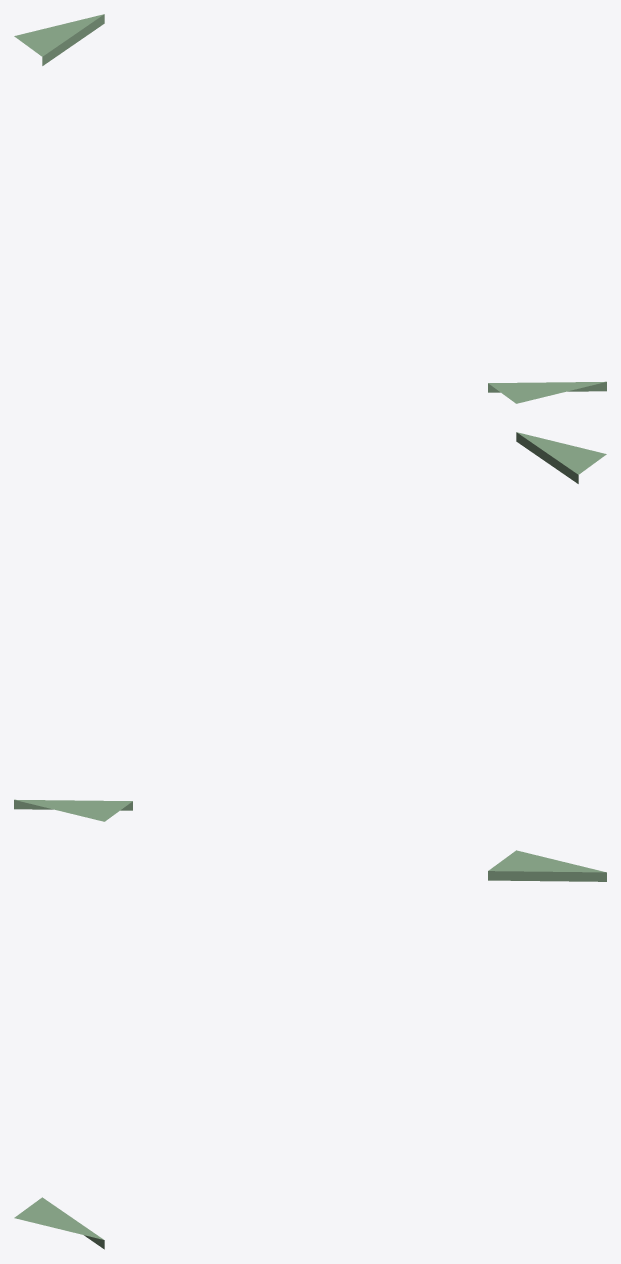
The model's file is AFT_PEAK_TK.glb.
3 views of the same model, one above another, from view 1: azimuth 30°, elevation 25°; view 2: azimuth 150°, elevation 25°; view 3: azimuth 330°, elevation 25° (orthographic).
Visible parts, largest first — view 1: PL_STR1BracketxAPTS_001001-12.5_NVA_1993, PL_STR1BracketxAPTP_001001-12.5_NVA_1993, ST_STR1BracketxAPTP_001001-FB_150x12_NVA_1993; view 2: PL_STR1BracketxAPTP_001001-12.5_NVA_1993, PL_STR1BracketxAPTS_001001-12.5_NVA_1993, ST_STR1BracketxAPTS_001001-FB_150x12_NVA_1993; view 3: PL_STR1BracketxAPTP_001001-12.5_NVA_1993, PL_STR1BracketxAPTS_001001-12.5_NVA_1993, ST_STR1BracketxAPTP_001001-FB_150x12_NVA_1993.
Boxes of the visible parts, x1,y1,x2,y2 form: PL_STR1BracketxAPTS_001001-12.5_NVA_1993: [488, 382, 591, 403]; PL_STR1BracketxAPTP_001001-12.5_NVA_1993: [14, 18, 93, 56]; ST_STR1BracketxAPTP_001001-FB_150x12_NVA_1993: [42, 21, 94, 65]; PL_STR1BracketxAPTP_001001-12.5_NVA_1993: [29, 800, 132, 821]; PL_STR1BracketxAPTS_001001-12.5_NVA_1993: [527, 436, 606, 474]; ST_STR1BracketxAPTS_001001-FB_150x12_NVA_1993: [526, 439, 578, 483]; PL_STR1BracketxAPTP_001001-12.5_NVA_1993: [488, 850, 591, 872]; PL_STR1BracketxAPTS_001001-12.5_NVA_1993: [14, 1197, 93, 1236]; ST_STR1BracketxAPTP_001001-FB_150x12_NVA_1993: [488, 871, 587, 881].
Bounding box in the file's own units: 1.5 × 0.15 × 14.4.
